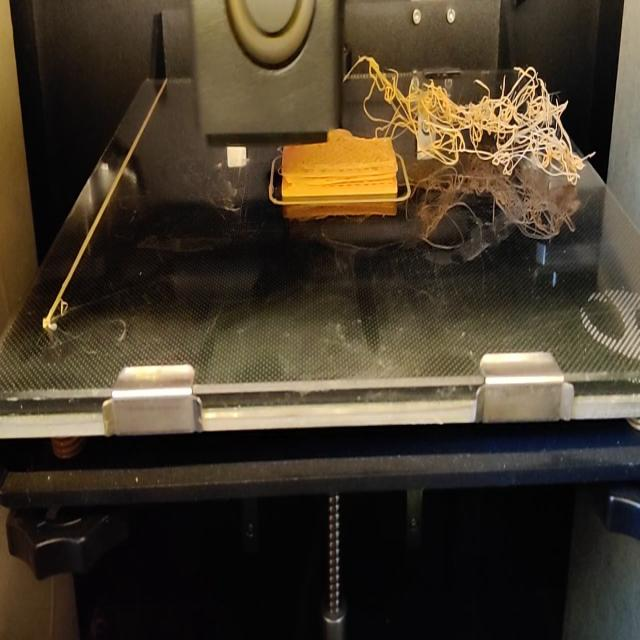spaghetti: (353, 50, 592, 183)
